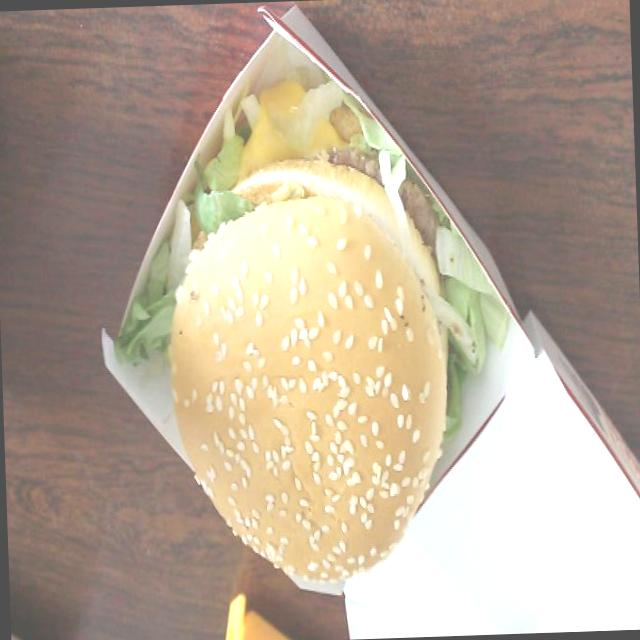Hamburger: (154, 80, 480, 604)
